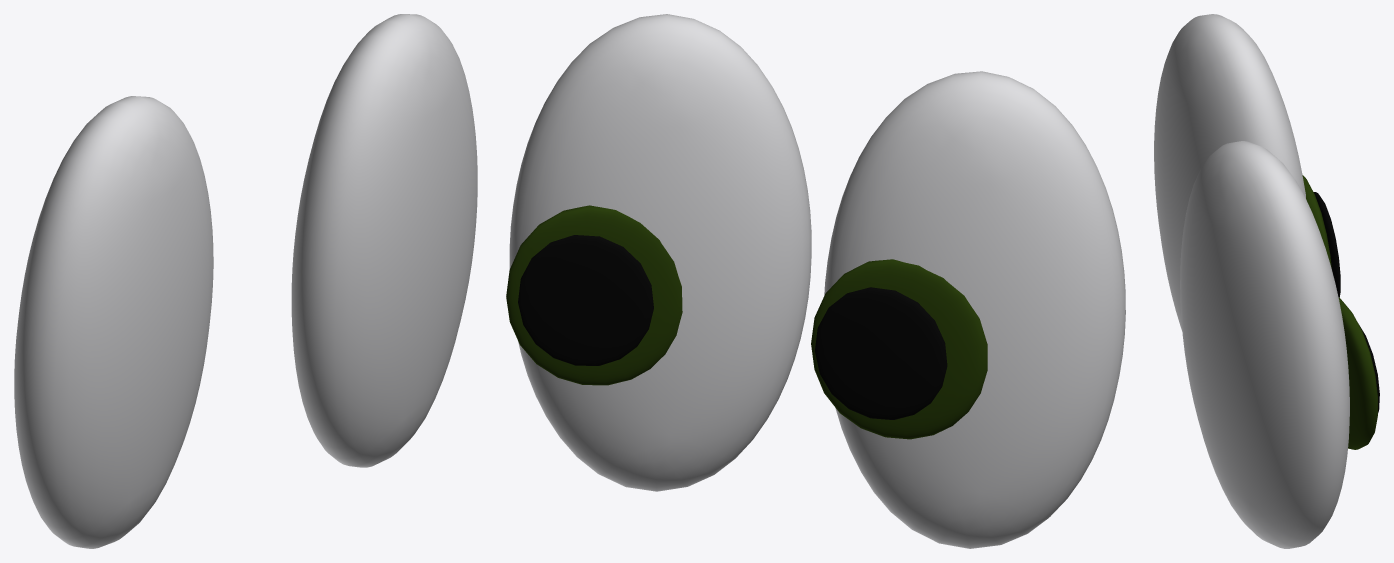
Rendered from eyes FBX.FBX.
3 views of the same model, side by side, from view 1: azimuth 30°, elevation 25°; view 2: azimuth 150°, elevation 25°; view 3: azimuth 270°, elevation 25° (orthographic). The views are drawn at different scales.
Parts seen in each view (by area): view 1: Group47159, Group47157; view 2: Group47159, Group47157, Group45610, Group47158, Group47160, Group7660; view 3: Group47157, Group47159, Group7660, Group47158, Group47160.
Part boxes in pixels (x1,y1,x2,y2): Group47159: [14, 96, 213, 548]; Group47157: [291, 14, 477, 467]; Group47159: [824, 71, 1125, 548]; Group47157: [509, 14, 811, 491]; Group45610: [518, 235, 653, 365]; Group47158: [815, 287, 947, 419]; Group47160: [811, 259, 987, 439]; Group7660: [506, 205, 682, 385]; Group47157: [1180, 141, 1349, 548]; Group47159: [1154, 14, 1305, 330]; Group7660: [1338, 297, 1377, 449]; Group47158: [1313, 192, 1340, 297]; Group47160: [1302, 175, 1331, 268].
Bounding box in the file's own units: 20.67 × 17.09 × 8.75.
